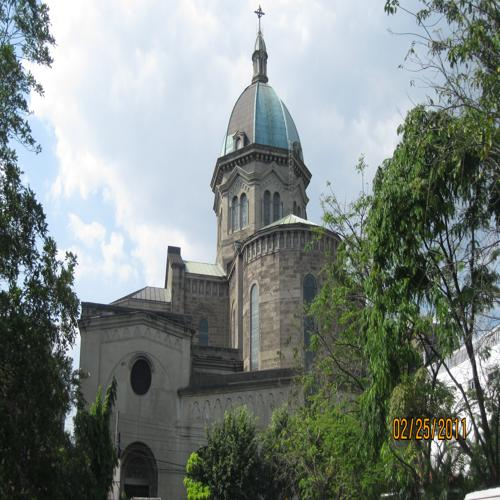Manila Cathedral Church: (50, 6, 386, 473)
